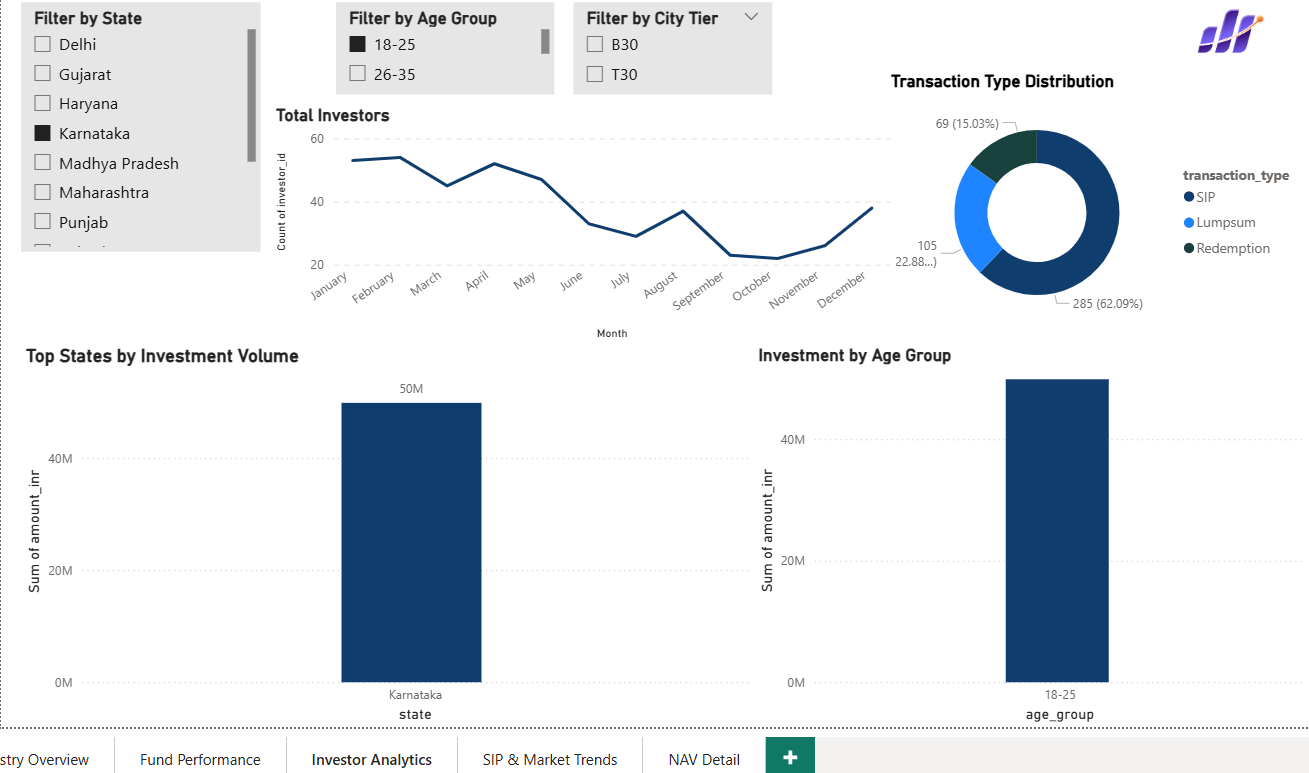

What the dashboard file says about the page in this screenshot:
{"tool":"powerbi","page":{"name":"Investor Analytics","canvas":[1280,720],"ordinal":2},"visuals":[{"type":"slicer","fields":{"Values":["investor_transactions_clean.state"]},"box":[19.5,11.2,234.6,244.3],"z":0},{"type":"slicer","fields":{"Values":["investor_transactions_clean.age_group"]},"box":[328.1,11.2,213.6,90.8],"z":1000},{"type":"slicer","fields":{"Values":["investor_transactions_clean.city_tier"]},"box":[559.9,11.2,194.1,90.8],"z":2000},{"type":"columnChart","title":"Top States by Investment Volume","fields":{"Category":["investor_transactions_clean.state"],"Y":["Sum(investor_transactions_clean.amount_inr)"]},"box":[19.5,346.2,716.2,374.2],"z":3000},{"type":"donutChart","title":"Transaction Type Distribution","fields":{"Category":["investor_transactions_clean.transaction_type"],"Y":["CountNonNull(investor_transactions_clean.transaction_type)"]},"box":[865.6,78.2,414.7,258.3],"z":4000},{"type":"columnChart","title":"Investment by Age Group","fields":{"Category":["investor_transactions_clean.age_group"],"Y":["Sum(investor_transactions_clean.amount_inr)"]},"box":[735.8,346.2,544.5,374.2],"z":5000},{"type":"lineChart","title":"Total Investors","fields":{"Category":["investor_transactions_clean.transaction_date.Variation.Date Hierarchy.Month"],"Y":["CountNonNull(investor_transactions_clean.investor_id)"]},"box":[263.9,111.7,611.5,234.6],"z":6000},{"type":"image","box":[1122.5,0,157.8,78.2],"z":7000}]}

Visuals, with their boxes on the page's 1280x720 design canvas (x1, y1, x2, y2). These are canvas units, not pixel positions in the 1309x773 screenshot, which may show the page scaled, cropped or inside an application window:
slicer - investor_transactions_clean.state: [left=20, top=11, right=254, bottom=256]
slicer - investor_transactions_clean.age_group: [left=328, top=11, right=542, bottom=102]
slicer - investor_transactions_clean.city_tier: [left=560, top=11, right=754, bottom=102]
"Top States by Investment Volume" columnChart: [left=20, top=346, right=736, bottom=720]
"Transaction Type Distribution" donutChart: [left=866, top=78, right=1280, bottom=336]
"Investment by Age Group" columnChart: [left=736, top=346, right=1280, bottom=720]
"Total Investors" lineChart: [left=264, top=112, right=875, bottom=346]
image: [left=1122, top=0, right=1280, bottom=78]
